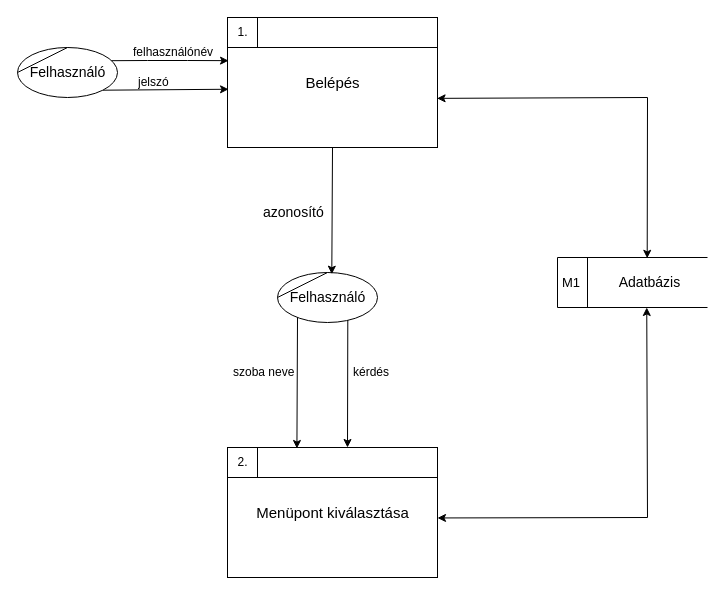
Image size: 725x595. Some labels were removed from this diagram. Each missing label, with the centre of its shape:
"Főoldal" goes at (347,462).
"Index oldal" goes at (347,32).
